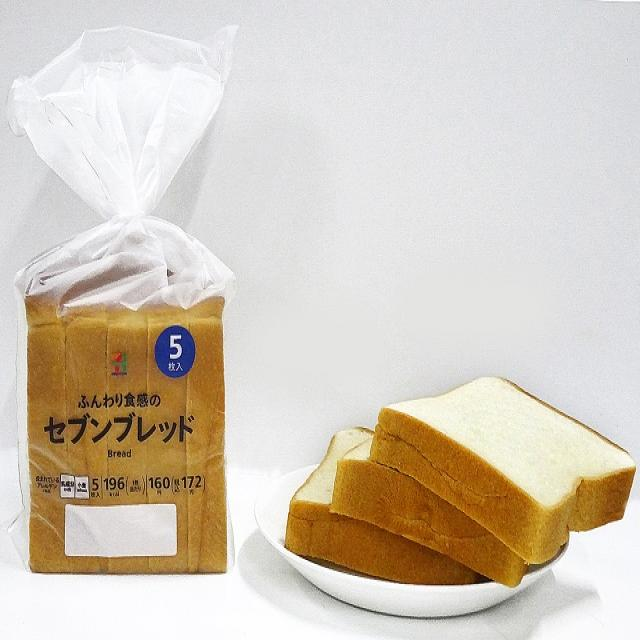bread: (9, 28, 238, 577)
